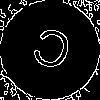C: (25, 25, 76, 81)
